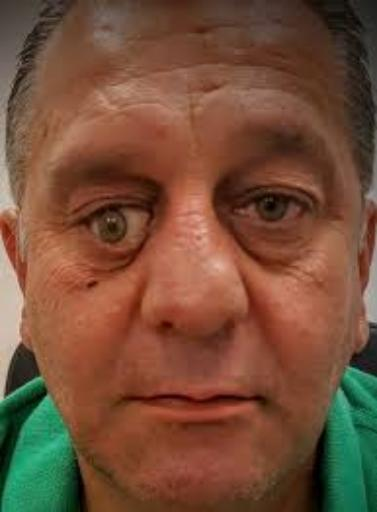left_eye: (244, 190, 314, 227)
left_lip_corner: (243, 386, 277, 414)
right_eye: (76, 199, 150, 246)
right_lip_corner: (113, 387, 155, 413)
